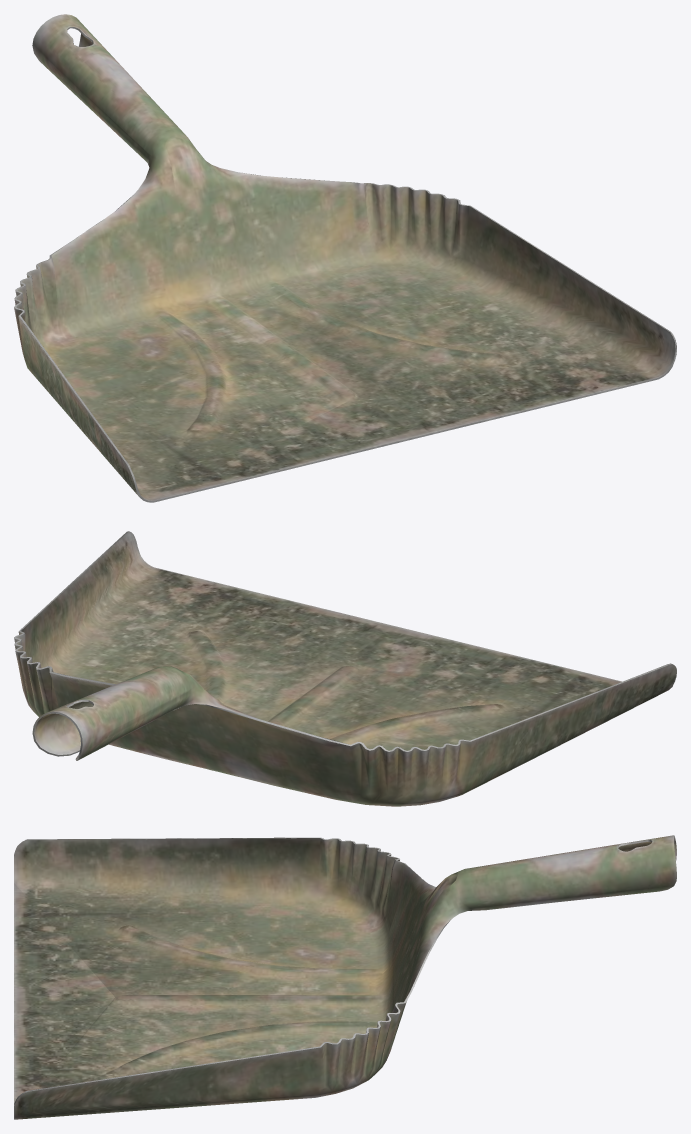
The model's file is dustpan.gltf.
The picture shows the model from 3 angles, top to bottom: view 1: azimuth 30°, elevation 25°; view 2: azimuth 150°, elevation 25°; view 3: azimuth 270°, elevation 25°; orthographic projection. The views are drawn at different scales.
Parts seen in each view (by area): view 1: dustpan; view 2: dustpan; view 3: dustpan.
Boxes of the visible parts, box(x1,y1,x2,y2) form: dustpan: box(14, 14, 676, 502); dustpan: box(14, 531, 676, 806); dustpan: box(14, 835, 676, 1119).
Bounding box in the file's own units: 0.3321 × 0.1003 × 0.368.
Materials: 1 (1 with a texture image).
